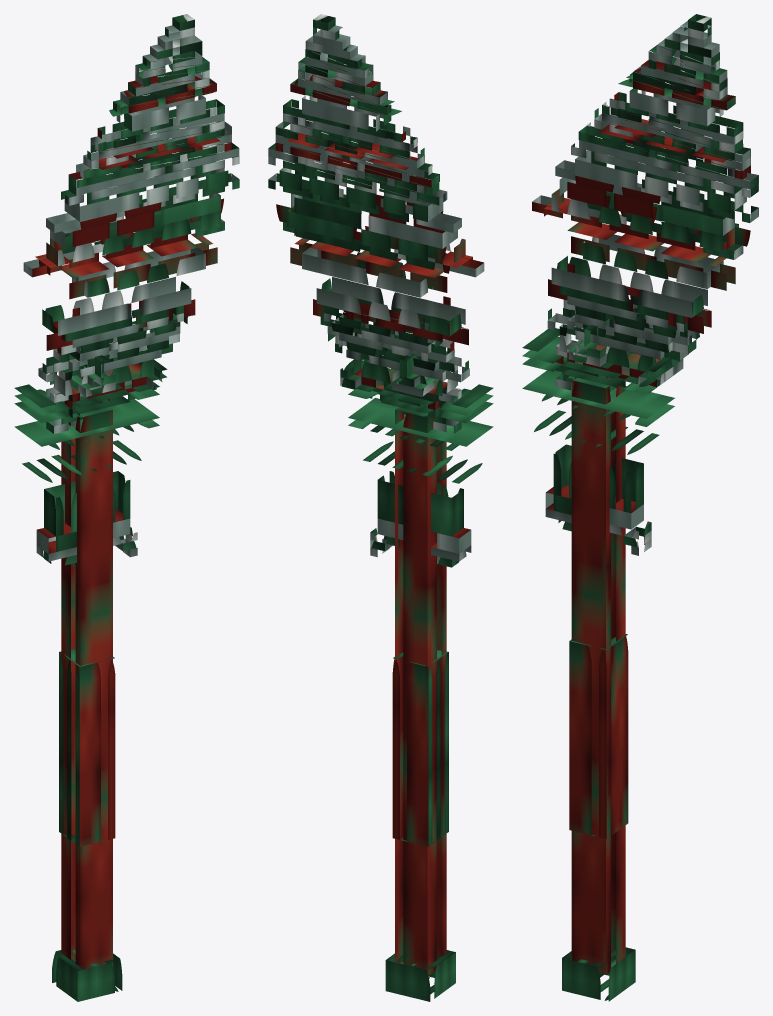
Rendered from guandao.obj.
3 views of the same model, side by side, from view 1: azimuth 30°, elevation 25°; view 2: azimuth 150°, elevation 25°; view 3: azimuth 330°, elevation 25° (orthographic). The views are drawn at different scales.
Visible parts, largest first — view 1: lit; view 2: lit; view 3: lit.
Boxes of the visible parts, bbox=[...] form: lit: bbox=[14, 14, 239, 1001]; lit: bbox=[268, 14, 493, 1001]; lit: bbox=[522, 14, 758, 1001].
Size of the model in its own units: 0.875 by 3.81 by 0.2048.
